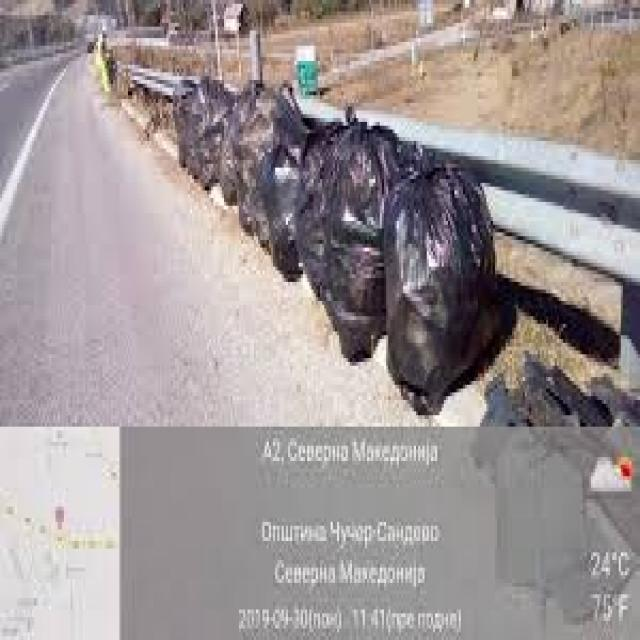garbage: (162, 76, 505, 423)
